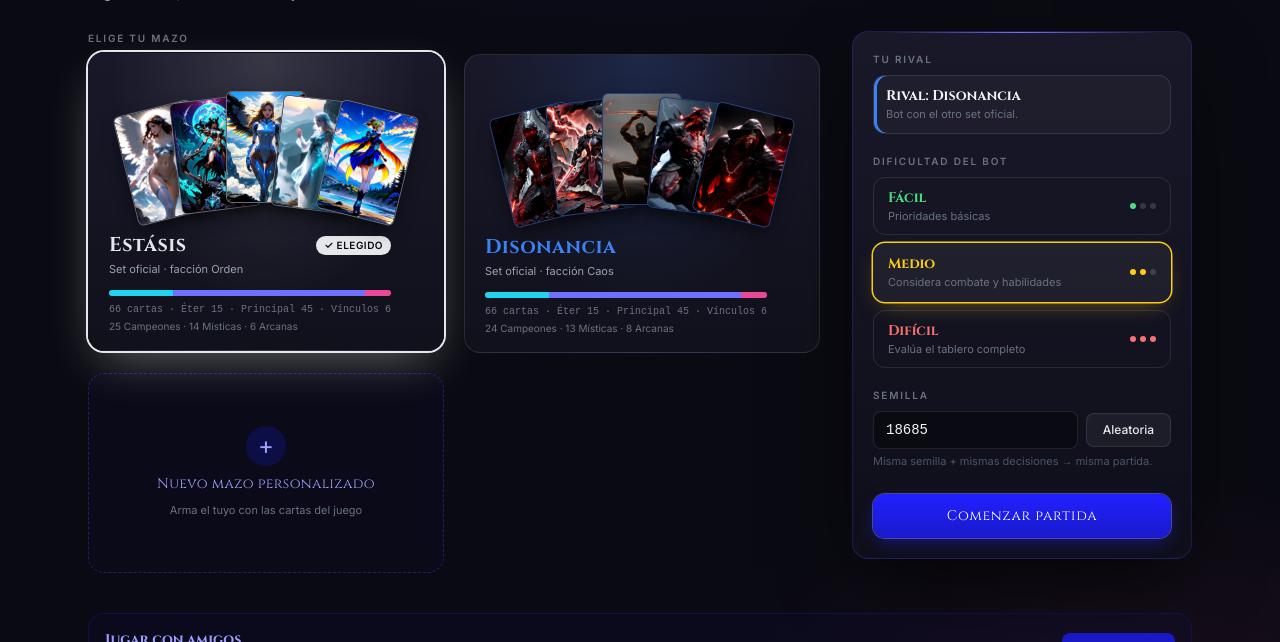
Test: OnlineApp — mazo personalizado › abre el editor con "Nuevo mazo personalizado"
(page scrolled)
What coordinates should you click on to do the following:
click the button "Nuevo mazo personalizado"
I would click on:
 (266, 472)
Its box is [88,372,444,572].
(page scrolled)
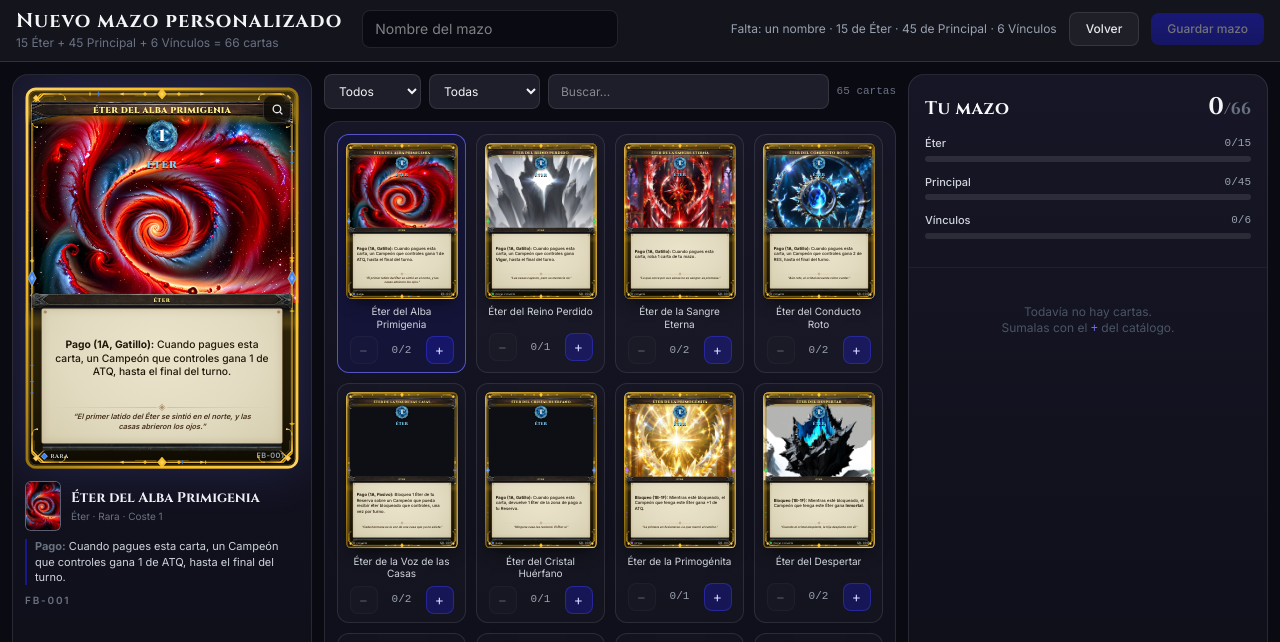
Result: the heading "Nuevo mazo personalizado" is shown at [16,7,342,35]
Result: the button "Volver" is shown at [1069,12,1139,46]
